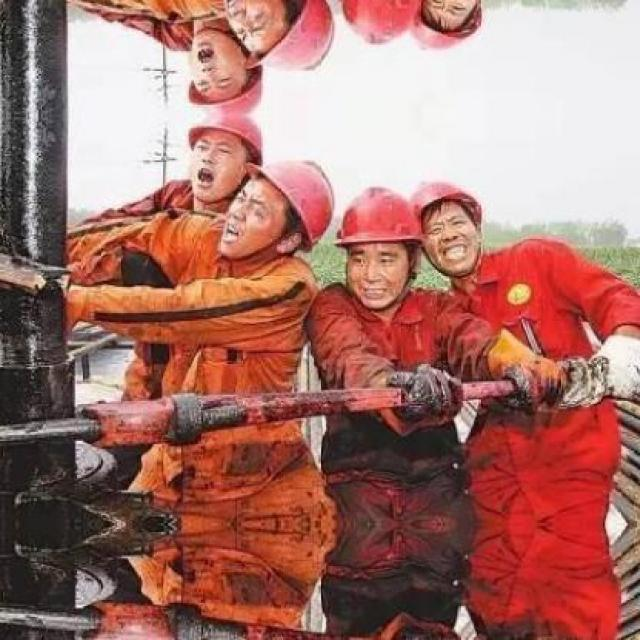hat: (243, 145, 339, 252), (320, 178, 427, 258), (182, 113, 271, 174), (405, 172, 489, 235)
